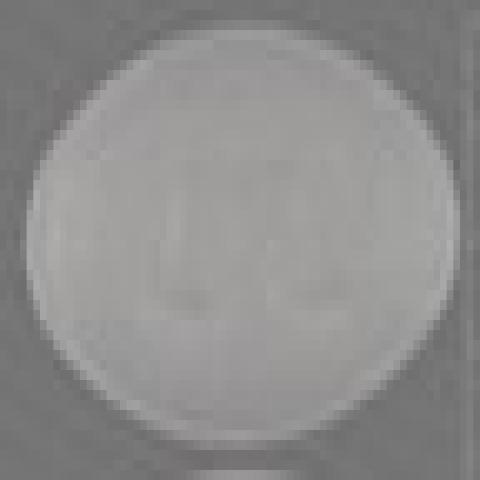Pill: (11, 15, 472, 452)
